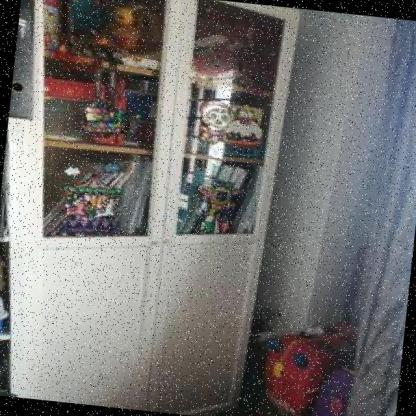Closet: (0, 0, 309, 416)
